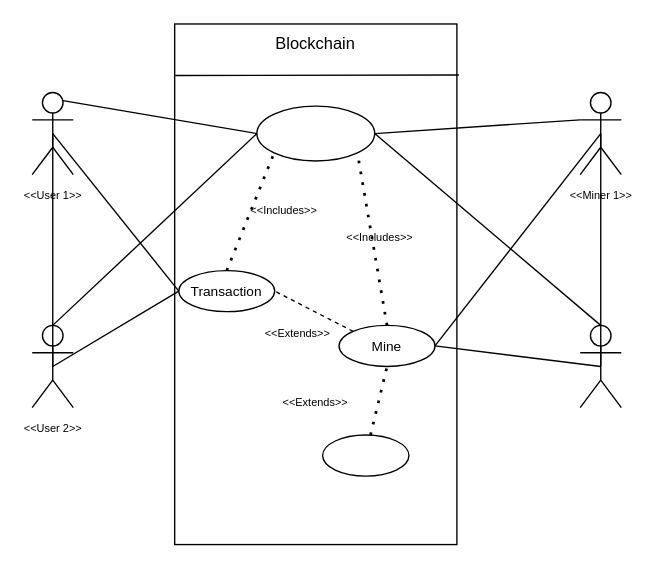
The diagram is 655 pixels wide and 569 high, and some of its shapes have lost their labels. The shapes that lost their labels are listed below. From the top down, each one's centre as x and y in pixels, then its label:
the point at 315,133: Ledger
the point at 600,366: <<Miner 2>>
the point at 365,455: Find nonce
